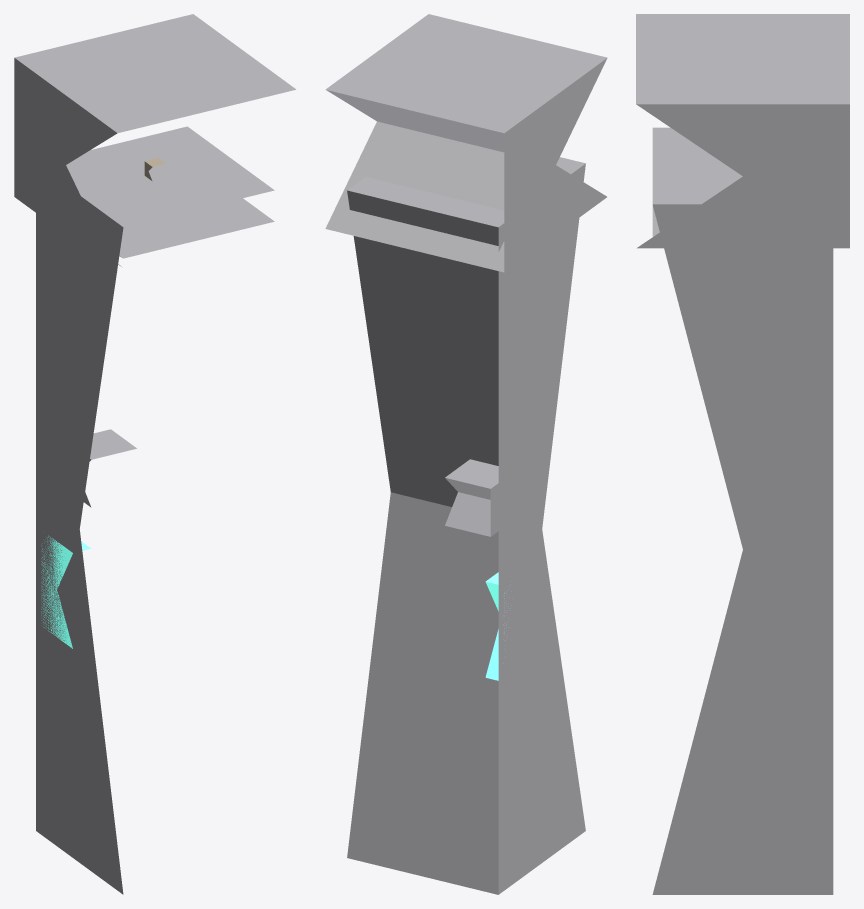
Rendered from guildhouse_3d_tower.glb.
3 views of the same model, side by side, from view 1: azimuth 30°, elevation 25°; view 2: azimuth 150°, elevation 25°; view 3: azimuth 270°, elevation 25° (orthographic). The views are drawn at different scales.
Visible parts, largest first — view 1: floorplan; view 2: floorplan; view 3: floorplan.
Boxes of the visible parts, box(x1,y1,x2,y2) form: floorplan: box(14, 14, 295, 894); floorplan: box(325, 14, 607, 894); floorplan: box(636, 14, 849, 894).
Bounding box in the file's own units: 3.9 × 16.05 × 3.9.
